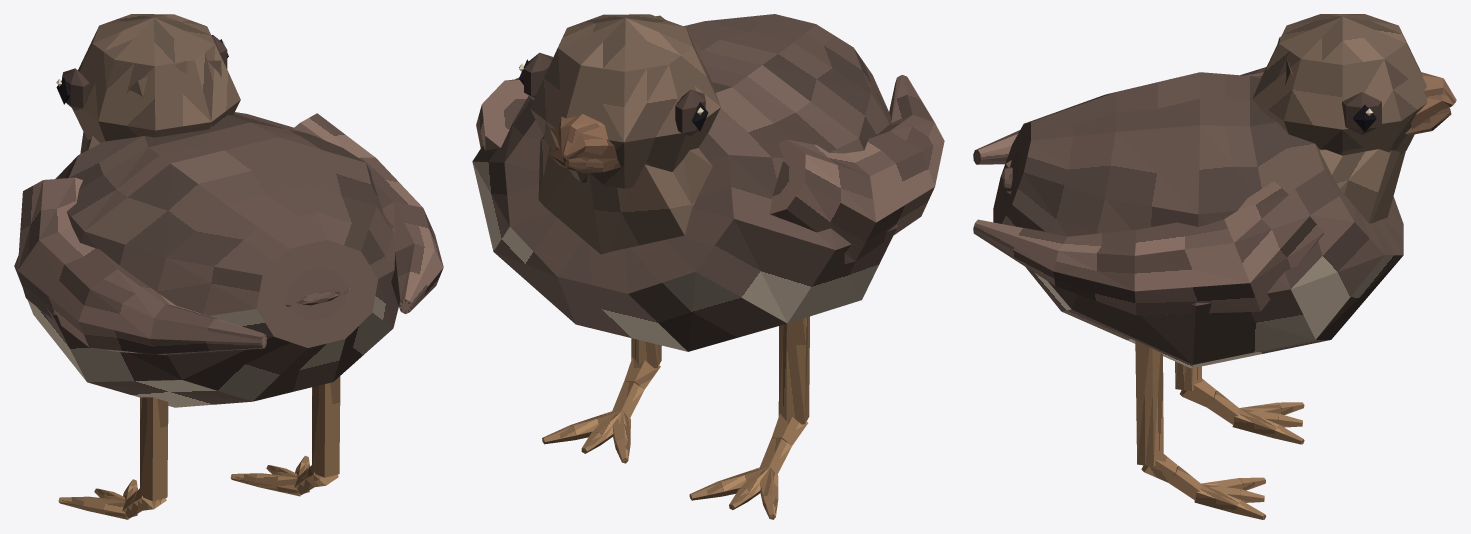
File: mon_turkey_domestic_chick.glb
The picture shows the model from 3 angles, left to right: view 1: azimuth 30°, elevation 25°; view 2: azimuth 150°, elevation 25°; view 3: azimuth 270°, elevation 25°; orthographic projection. The views are drawn at different scales.
Visible parts, largest first — view 1: closed_body; view 2: closed_body; view 3: closed_body.
Part boxes in pixels (<box>): closed_body: <box>14,14,443,519</box>; closed_body: <box>472,14,944,519</box>; closed_body: <box>973,14,1456,519</box>.
Bounding box in the file's own units: 0.0813 × 0.0949 × 0.0927.
1 material, 1 textured.
